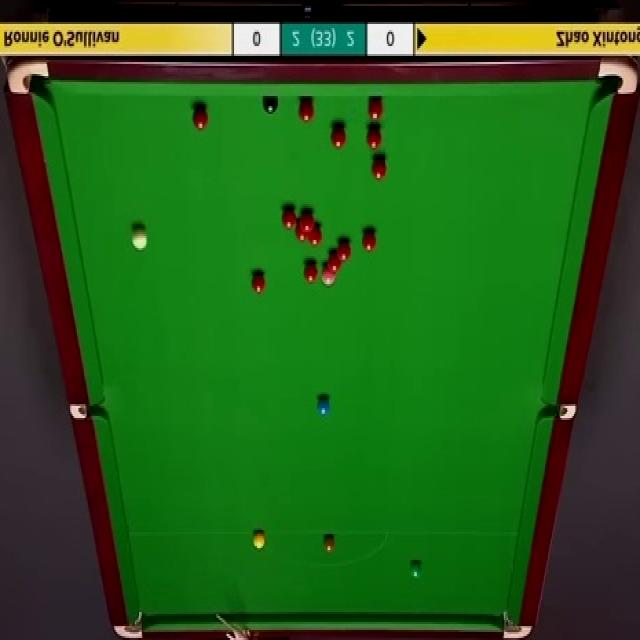black-ball: (264, 96, 282, 115)
blue-ball: (316, 398, 331, 415)
brown-ball: (323, 530, 336, 552)
green-ball: (410, 565, 422, 581)
pink-ball: (322, 266, 336, 286)
red-ball: (307, 221, 324, 247), (371, 154, 387, 181), (331, 124, 346, 152), (191, 107, 208, 131), (280, 206, 297, 230), (368, 96, 384, 117), (297, 101, 312, 123), (252, 270, 265, 294), (300, 210, 314, 232), (368, 127, 382, 149), (337, 238, 350, 260), (295, 222, 309, 241), (327, 254, 341, 273), (362, 232, 376, 250), (303, 264, 316, 283)
white-ball: (130, 222, 148, 253)
yellow-ball: (253, 530, 265, 550)
